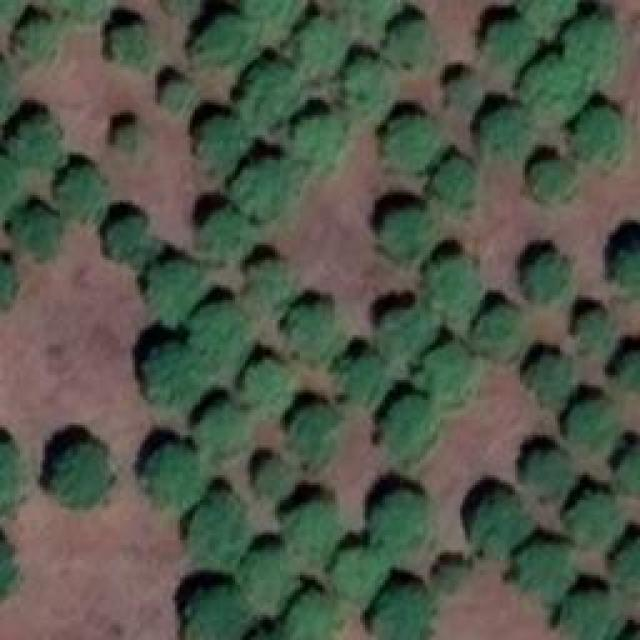Tree: (190, 493, 250, 566), (145, 260, 208, 323), (148, 345, 211, 405), (525, 57, 585, 115), (55, 443, 110, 506), (235, 155, 290, 218), (180, 587, 245, 640), (195, 303, 248, 366), (470, 495, 528, 550), (385, 398, 438, 458), (285, 503, 343, 556), (373, 493, 428, 548), (198, 15, 261, 63), (243, 70, 303, 120), (380, 208, 435, 261), (150, 447, 200, 505), (288, 405, 338, 463), (423, 342, 473, 400), (243, 550, 293, 608), (375, 590, 433, 640), (565, 20, 613, 80), (522, 542, 570, 600), (200, 400, 250, 455), (385, 115, 438, 165), (343, 60, 393, 113), (295, 113, 348, 163), (300, 18, 350, 71), (428, 260, 481, 310), (335, 550, 385, 603), (563, 592, 618, 640), (380, 305, 438, 350), (202, 118, 250, 171), (568, 400, 621, 448), (13, 118, 63, 168), (242, 363, 290, 413), (203, 210, 256, 255), (293, 303, 336, 356), (110, 220, 160, 265), (15, 210, 60, 258), (482, 110, 530, 155), (572, 495, 620, 540), (575, 110, 618, 158), (475, 307, 518, 355), (288, 592, 331, 640), (64, 168, 105, 218), (485, 23, 535, 63), (247, 0, 307, 32), (528, 252, 568, 300), (435, 157, 473, 205), (255, 260, 295, 305), (525, 452, 570, 490), (350, 355, 388, 400), (393, 20, 433, 60), (520, 0, 573, 30), (533, 160, 573, 198), (533, 358, 568, 401), (578, 310, 613, 353), (0, 437, 18, 515), (49, 0, 112, 22), (345, 0, 400, 25), (115, 25, 150, 63), (18, 20, 53, 55), (620, 242, 640, 300), (258, 457, 288, 495), (617, 542, 640, 589), (450, 75, 480, 108), (0, 158, 18, 211), (0, 63, 18, 113), (622, 447, 640, 495), (168, 82, 198, 110), (620, 355, 640, 395), (165, 0, 200, 20), (440, 565, 465, 588), (120, 123, 140, 148)
